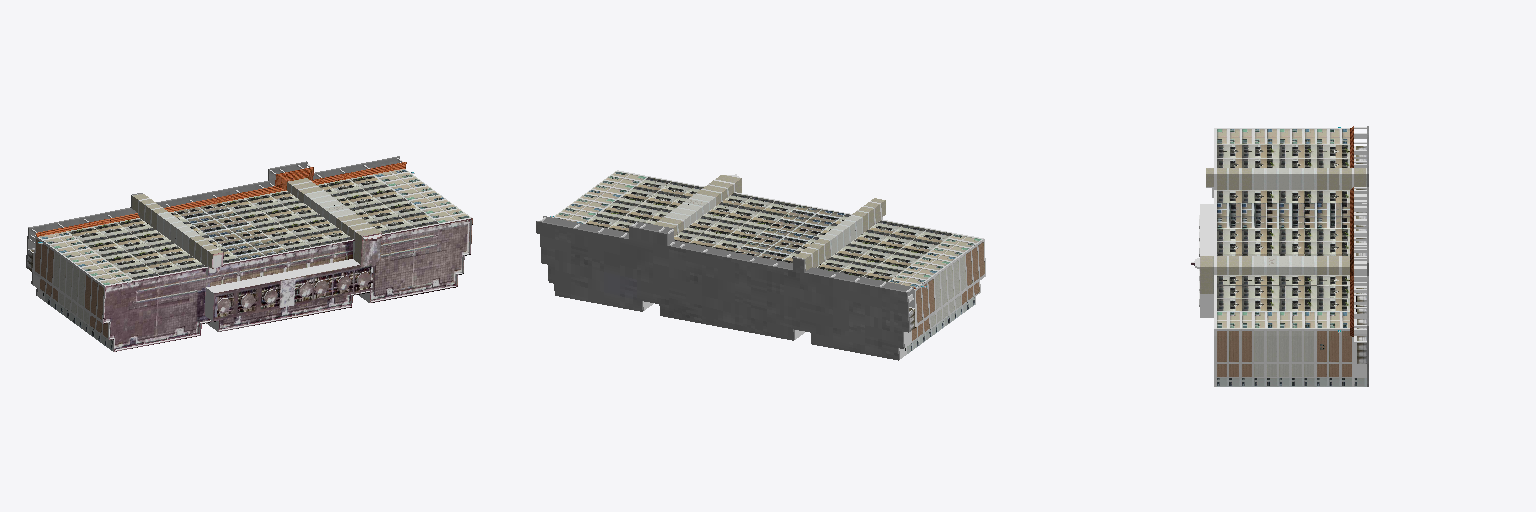
The picture shows the model from 3 angles: view 1: azimuth 30°, elevation 25°; view 2: azimuth 150°, elevation 25°; view 3: azimuth 270°, elevation 25°; orthographic projection.
Visible parts, largest first — view 1: polygon.831; view 2: polygon.831; view 3: polygon.831.
Part boxes in pixels (x1,y1,x2,y2): polygon.831: (26,156,472,351); polygon.831: (536,170,985,360); polygon.831: (1191,126,1368,386).
Bounding box in the file's own units: 96.68 × 23.74 × 39.64.
1 materials, 1 textured.